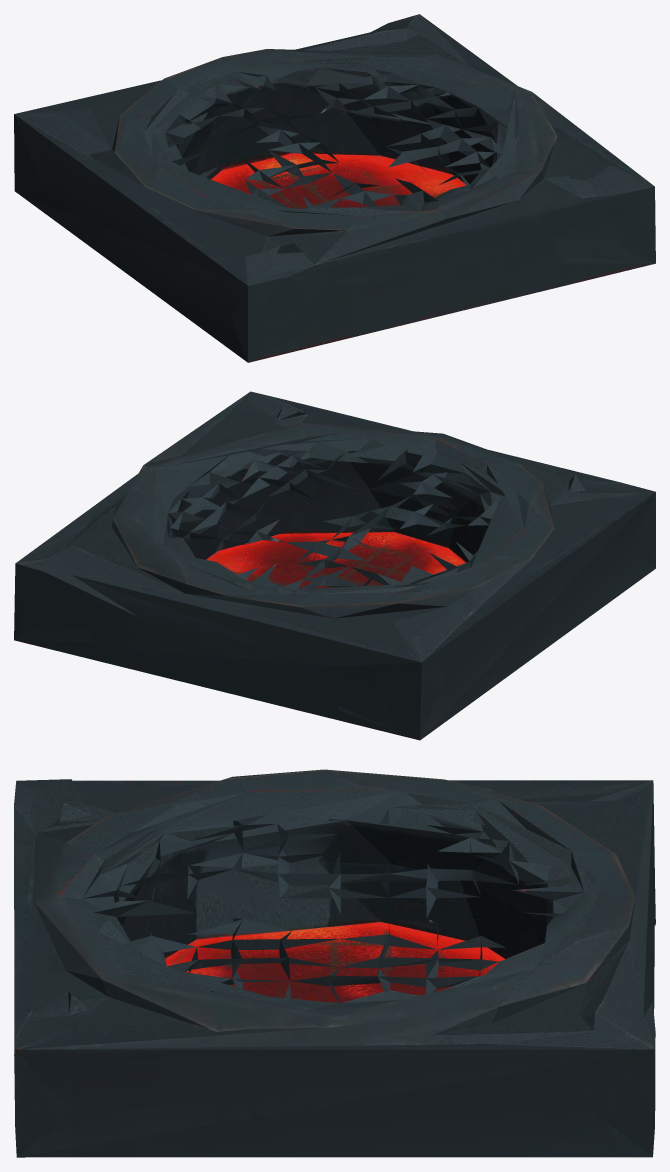
Rendered from vent.glb.
3 views of the same model, one above another, from view 1: azimuth 30°, elevation 25°; view 2: azimuth 150°, elevation 25°; view 3: azimuth 270°, elevation 25° (orthographic). The views are drawn at different scales.
Bounding box in the file's own units: 1.83 × 0.4001 × 1.83.
1 material, 1 textured.
